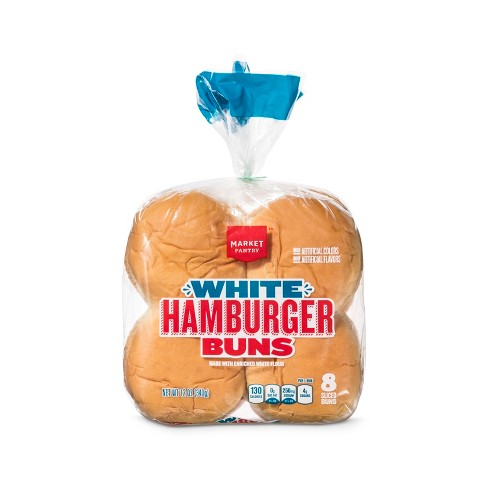hamburger_buns: (119, 173, 388, 423)
